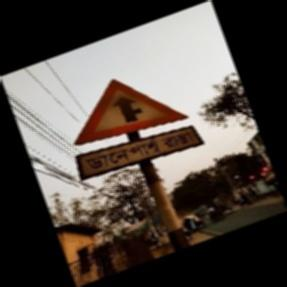Side-road-right: (73, 78, 206, 184)
